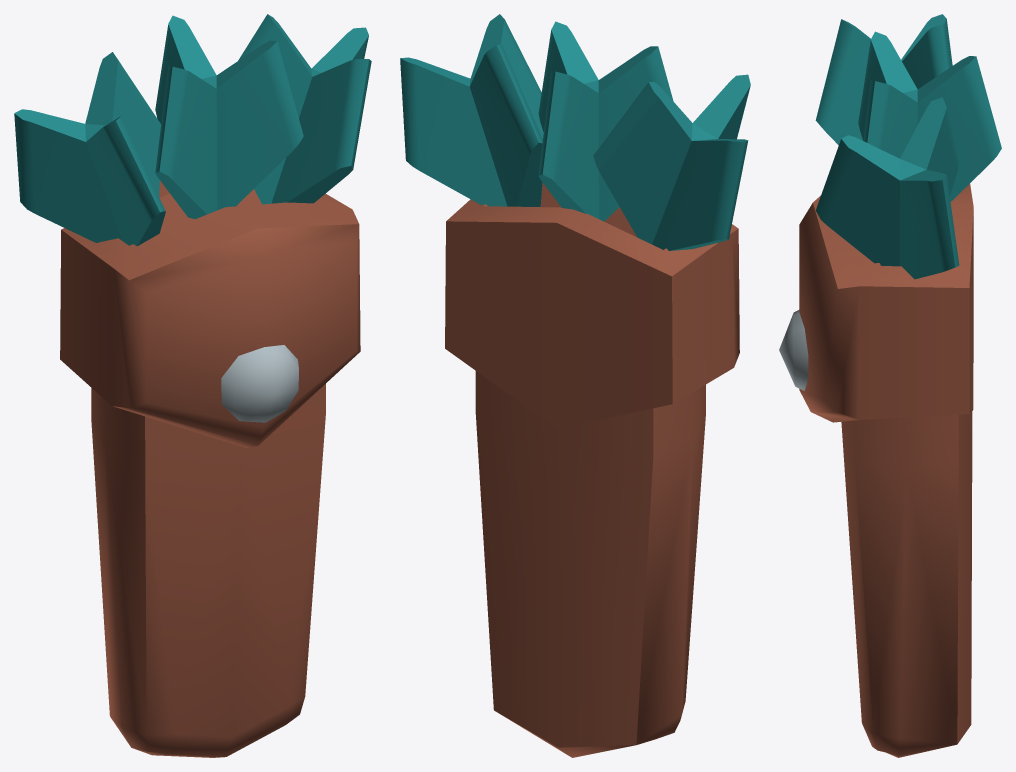
The model's file is quiver_full.glb.
The picture shows the model from 3 angles, left to right: view 1: azimuth 30°, elevation 25°; view 2: azimuth 150°, elevation 25°; view 3: azimuth 270°, elevation 25°; orthographic projection. The views are drawn at different scales.
Visible parts, largest first — view 1: quiver_full; view 2: quiver_full; view 3: quiver_full.
Boxes of the visible parts, box(x1,y1,x2,y2) form: quiver_full: box(14, 14, 371, 757); quiver_full: box(400, 14, 750, 757); quiver_full: box(779, 14, 1001, 757).
Bounding box in the file's own units: 0.0629 × 0.1218 × 0.0357.
